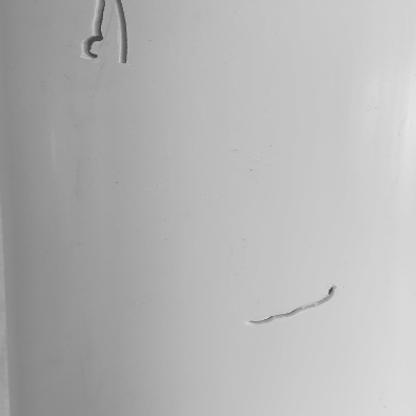fengxi: (246, 286, 337, 328), (82, 1, 130, 65)
